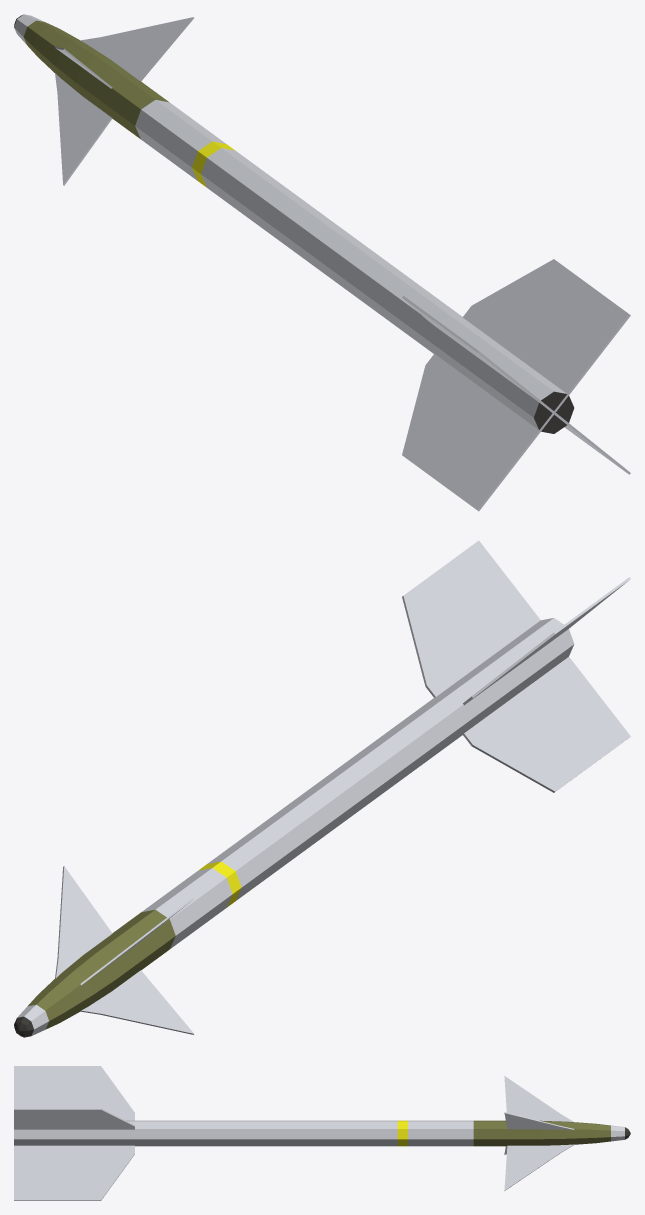
The model's file is AIM-9.glb.
3 views of the same model, one above another, from view 1: azimuth 30°, elevation 25°; view 2: azimuth 150°, elevation 25°; view 3: azimuth 270°, elevation 25° (orthographic). The views are drawn at different scales.
Parts seen in each view (by area): view 1: Cylinder; view 2: Cylinder; view 3: Cylinder.
Part boxes in pixels (x1,y1,x2,y2): Cylinder: (14,14,630,511); Cylinder: (14,540,630,1037); Cylinder: (14,1066,630,1200).
Size of the model in its own units: 0.5001 by 0.5001 by 3.02.
Materials: 1 (1 with a texture image).
